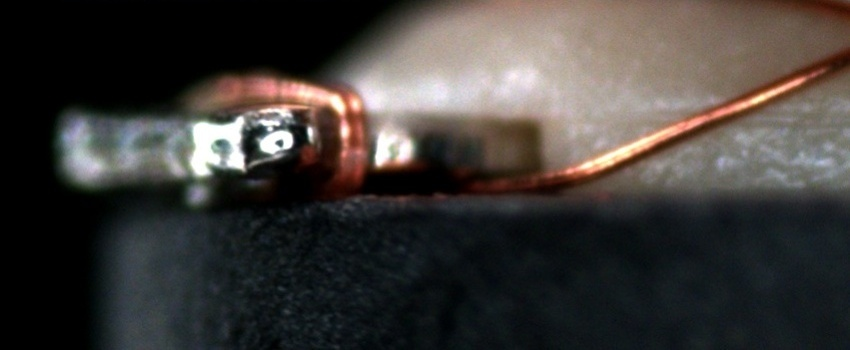DL: (643, 88, 849, 146)
TE: (190, 64, 383, 202)
